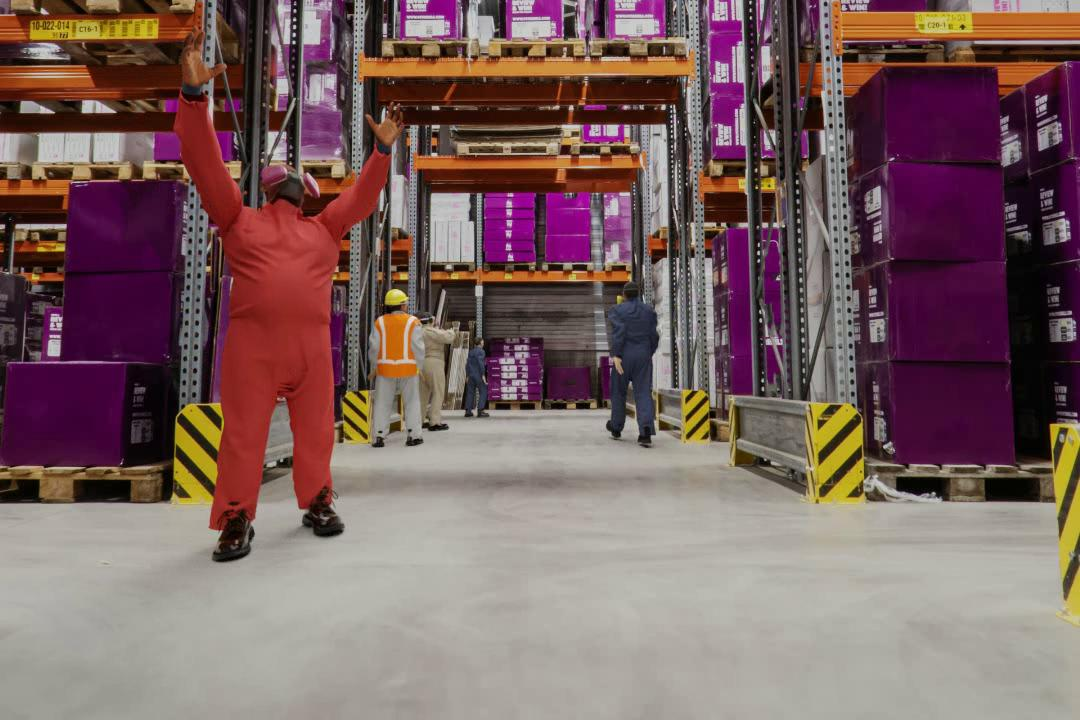Helmet: (383, 289, 408, 307)
Jacket: (375, 312, 416, 376)
Shoes: (209, 511, 255, 562), (301, 495, 346, 538), (606, 419, 622, 439), (638, 426, 653, 445), (407, 435, 424, 446), (371, 435, 385, 448), (428, 423, 450, 431), (477, 409, 490, 417), (464, 411, 474, 417)
